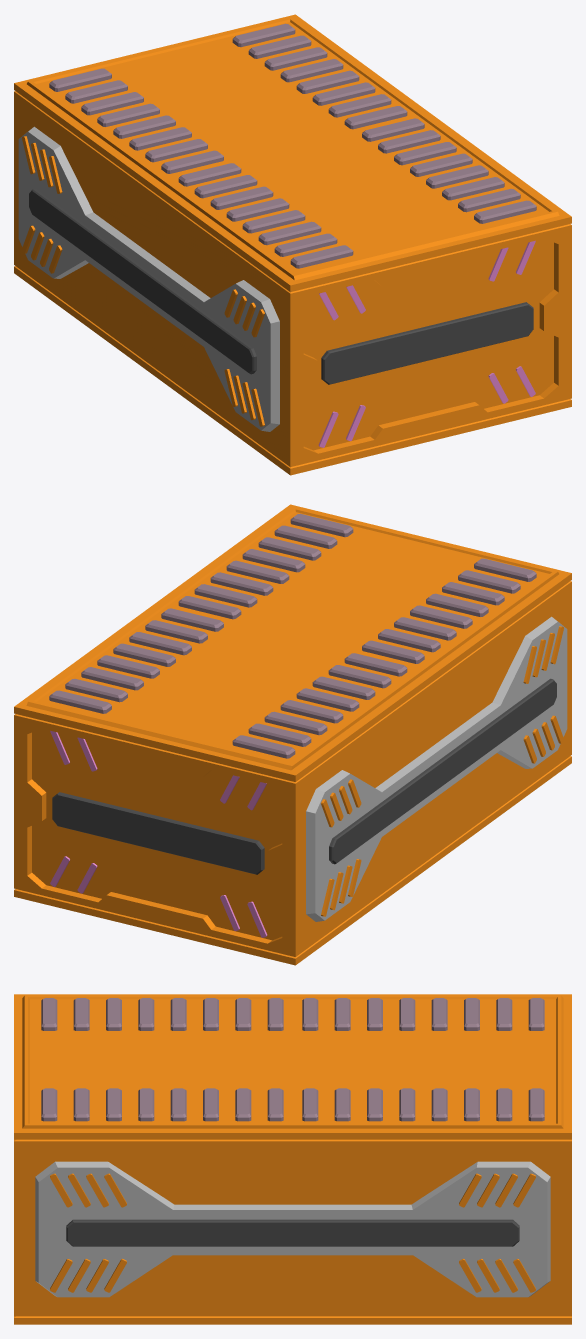
The picture shows the model from 3 angles, top to bottom: view 1: azimuth 30°, elevation 25°; view 2: azimuth 150°, elevation 25°; view 3: azimuth 270°, elevation 25°; orthographic projection.
Visible parts, largest first — view 1: SM_Box03; view 2: SM_Box03; view 3: SM_Box03.
Boxes of the visible parts, bbox=[...] form: SM_Box03: bbox=[14, 14, 571, 475]; SM_Box03: bbox=[14, 504, 571, 965]; SM_Box03: bbox=[14, 994, 571, 1324].
Size of the model in its own units: 76.36 by 48.97 by 120.
